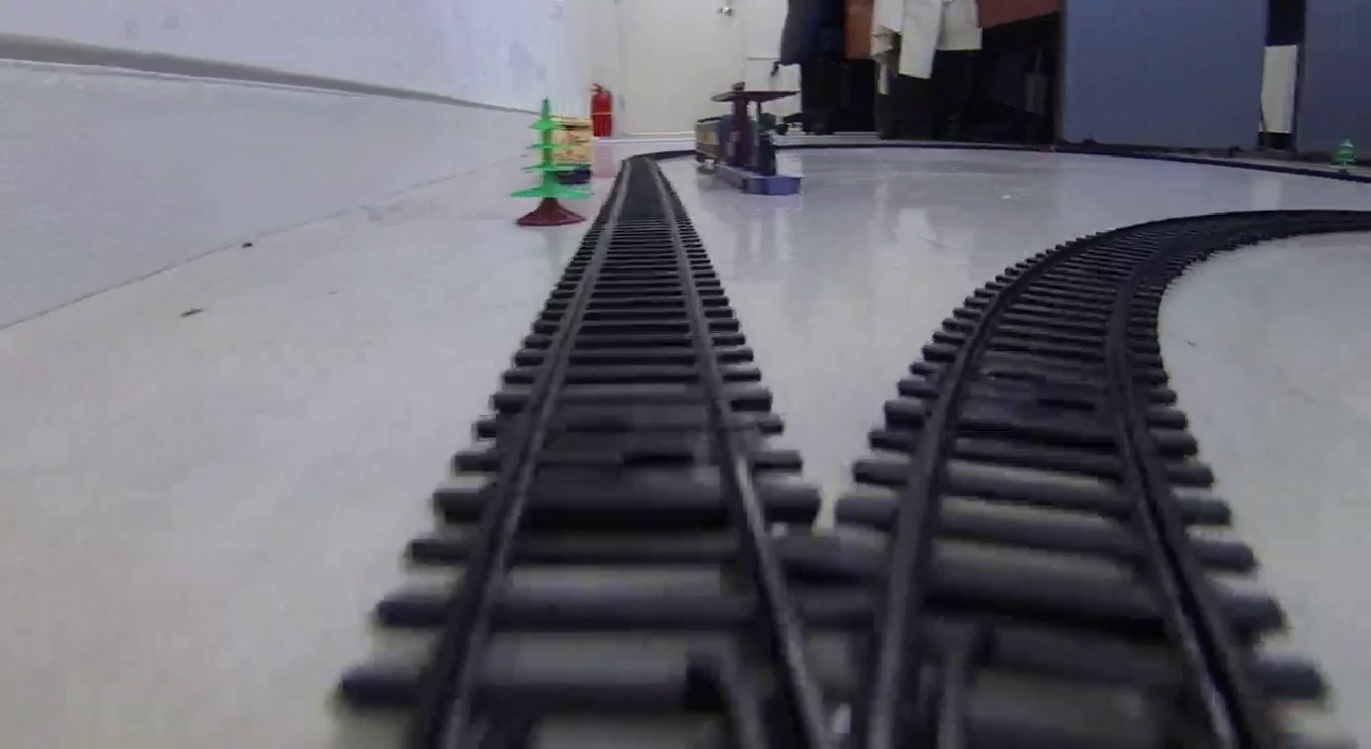tree: (504, 93, 596, 224)
